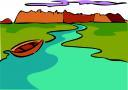boat: (9, 38, 45, 58)
